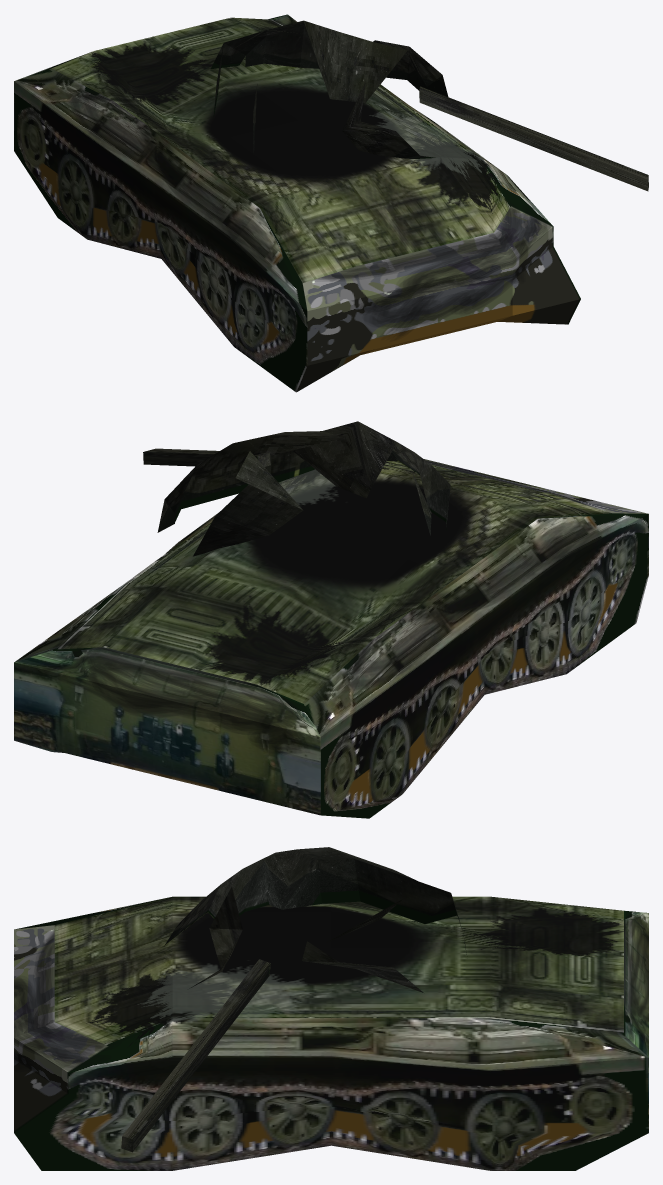
The model's file is t-55_bad.fbx.
3 renders of one model, top to bottom at view 1: azimuth 30°, elevation 25°; view 2: azimuth 150°, elevation 25°; view 3: azimuth 270°, elevation 25°, orthographic. The views are drawn at different scales.
Parts seen in each view (by area): view 1: Cube, Куб; view 2: Cube, Куб; view 3: Cube, Куб.
Part boxes in pixels (x1,y1,x2,y2): Cube: (14, 14, 580, 392); Куб: (211, 20, 648, 191); Cube: (14, 459, 648, 818); Куб: (143, 421, 450, 556); Cube: (14, 896, 648, 1170); Куб: (121, 847, 467, 1152).
Bounding box in the file's own units: 594 × 310 × 762.
Materials: 2 (2 with a texture image).
